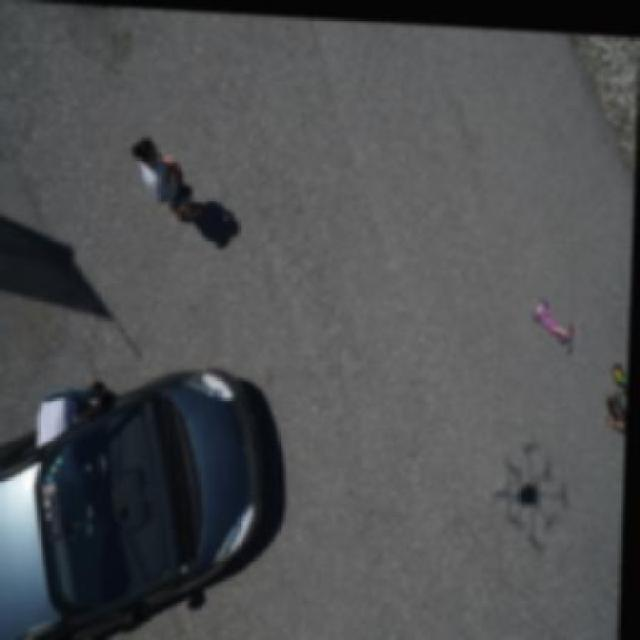Person: (123, 130, 214, 225), (604, 359, 630, 447)
